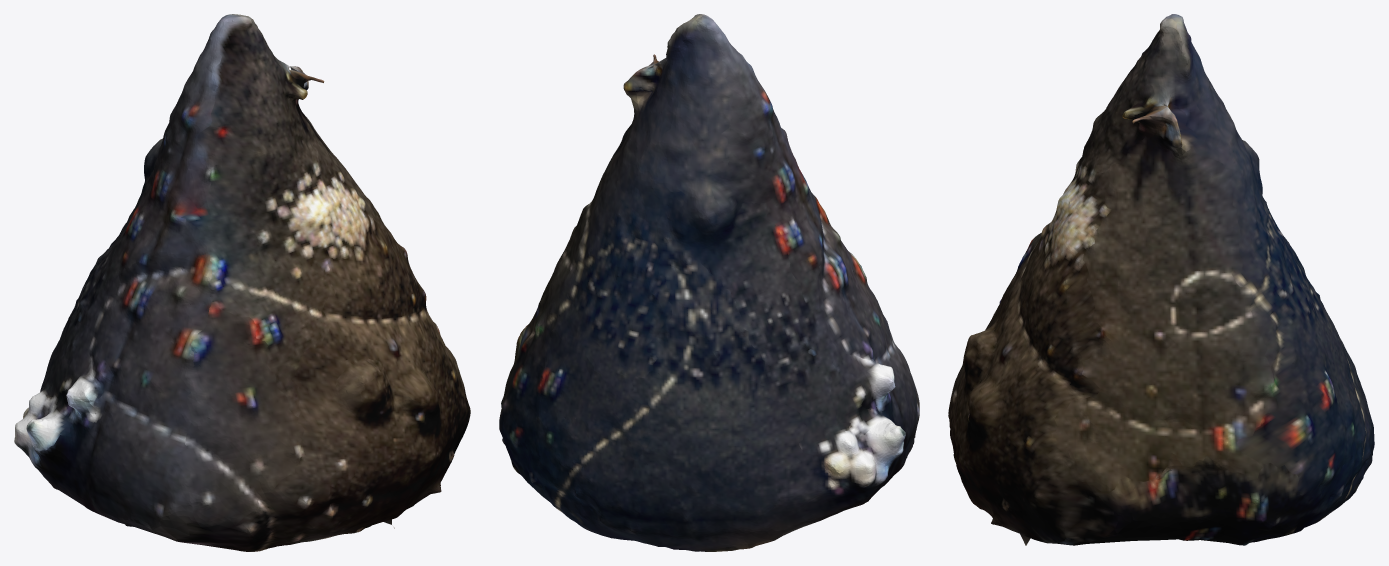
Rendered from OBSOLESENCE copy.glb.
3 views of the same model, side by side, from view 1: azimuth 30°, elevation 25°; view 2: azimuth 150°, elevation 25°; view 3: azimuth 270°, elevation 25° (orthographic). The views are drawn at different scales.
Visible parts, largest first — view 1: mesh; view 2: mesh; view 3: mesh.
Boxes of the visible parts, x1,y1,x2,y2 form: mesh: (14,14,470,551); mesh: (499,14,919,551); mesh: (948,14,1374,545).
Size of the model in its own units: 0.1088 by 0.1278 by 0.1006.
Materials: 1 (1 with a texture image).
